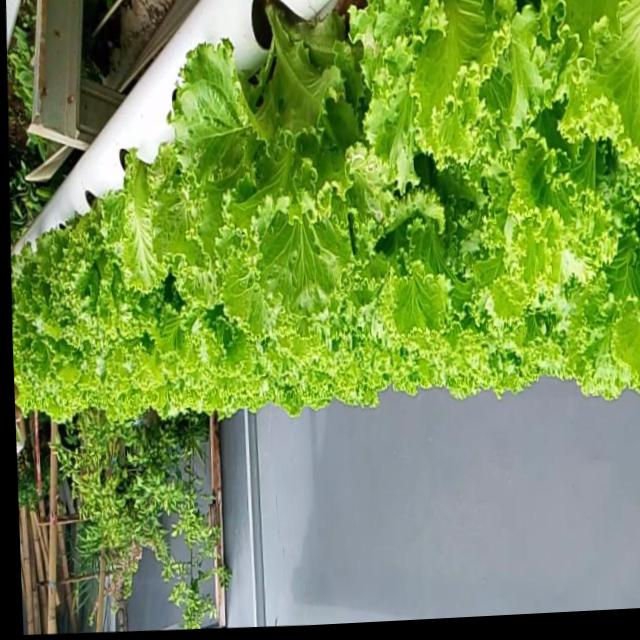Mature: (11, 0, 640, 421), (170, 0, 390, 322), (49, 179, 157, 344)
